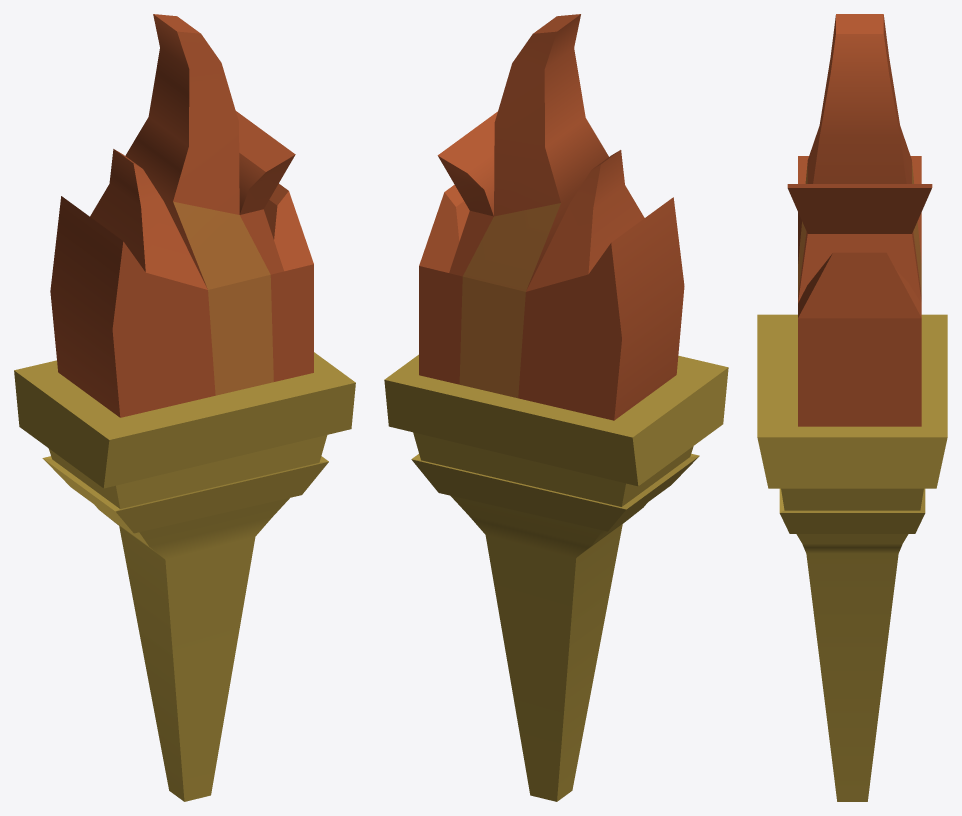
File: tflame.fbx
The picture shows the model from 3 angles, left to right: view 1: azimuth 30°, elevation 25°; view 2: azimuth 150°, elevation 25°; view 3: azimuth 270°, elevation 25°; orthographic projection.
Parts seen in each view (by area): view 1: pCube22, pCube21; view 2: pCube22, pCube21; view 3: pCube22, pCube21.
Boxes of the visible parts, box(x1,y1,x2,y2) form: pCube22: box(50, 14, 313, 417); pCube21: box(14, 352, 355, 801); pCube22: box(419, 14, 684, 420); pCube21: box(384, 354, 728, 801); pCube22: box(787, 14, 932, 426); pCube21: box(757, 314, 947, 801).
Size of the model in its own units: 1.81 by 5.39 by 1.2.
